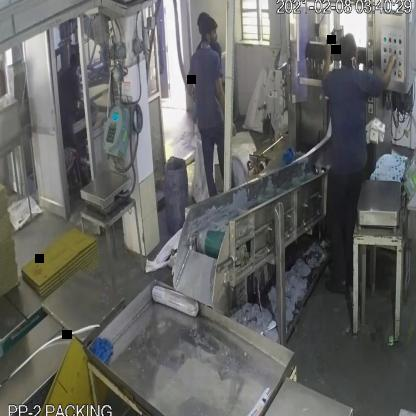no_glove: (375, 44, 410, 86), (323, 35, 338, 90)
